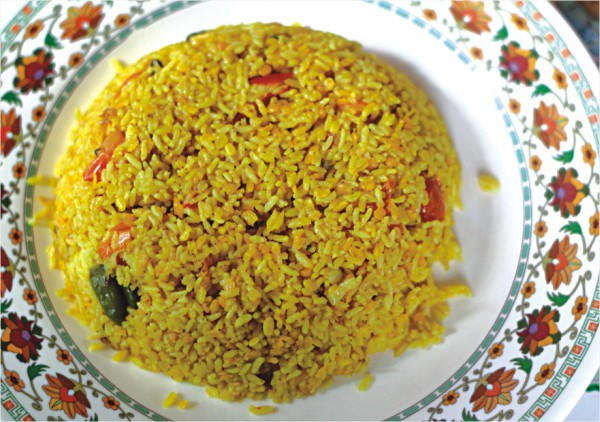khichuri: (56, 23, 488, 391)
